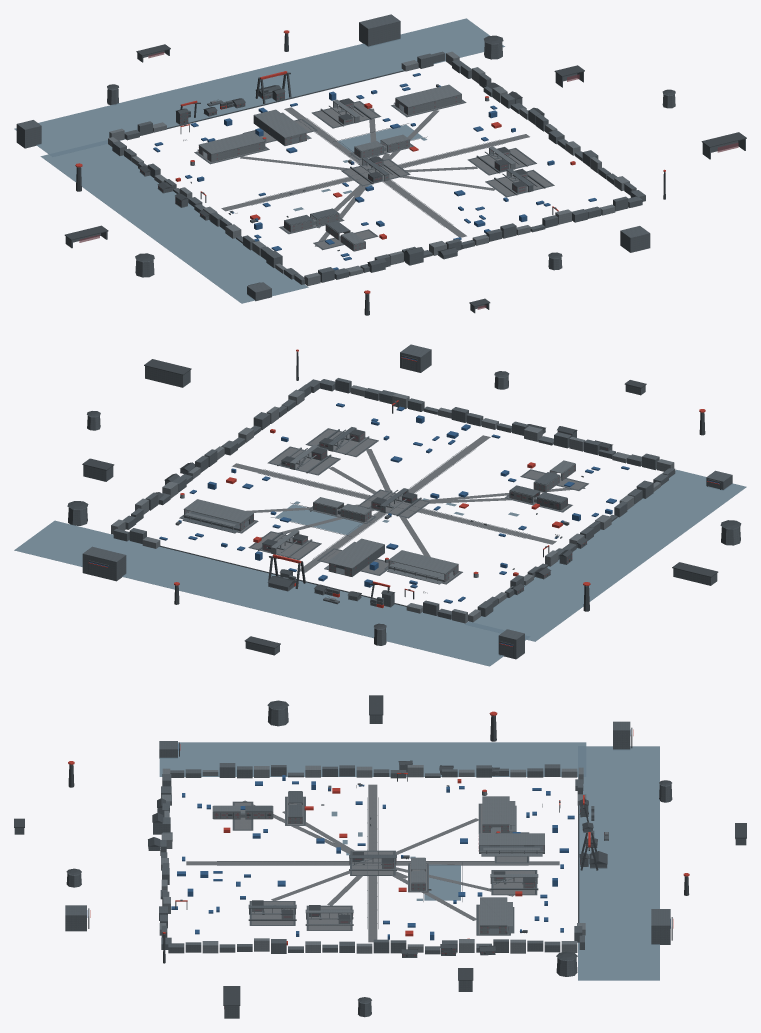
File: kouwan-lod1.glb
The picture shows the model from 3 angles, top to bottom: view 1: azimuth 30°, elevation 25°; view 2: azimuth 150°, elevation 25°; view 3: azimuth 270°, elevation 25°; orthographic projection. The views are drawn at different scales.
Parts seen in each view (by area): view 1: HB_kouwan_LOD1_water, HB_kouwan_LOD1_wall_alt, HB_kouwan_LOD1_wall, HB_kouwan_LOD1_road, HB_kouwan_LOD1_trim, HB_kouwan_LOD1_obstacle, HB_kouwan_LOD1_glass, HB_kouwan_LOD1_accent; view 2: HB_kouwan_LOD1_water, HB_kouwan_LOD1_wall_alt, HB_kouwan_LOD1_wall, HB_kouwan_LOD1_road, HB_kouwan_LOD1_trim, HB_kouwan_LOD1_obstacle, HB_kouwan_LOD1_accent; view 3: HB_kouwan_LOD1_water, HB_kouwan_LOD1_wall_alt, HB_kouwan_LOD1_wall, HB_kouwan_LOD1_road, HB_kouwan_LOD1_trim, HB_kouwan_LOD1_obstacle, HB_kouwan_LOD1_accent.
Part boxes in pixels (x1=…): HB_kouwan_LOD1_water: x1=14, y1=18, x2=504, y2=303; HB_kouwan_LOD1_wall_alt: x1=16, y1=14, x2=745, y2=313; HB_kouwan_LOD1_wall: x1=108, y1=51, x2=629, y2=285; HB_kouwan_LOD1_road: x1=194, y1=100, x2=554, y2=250; HB_kouwan_LOD1_trim: x1=64, y1=33, x2=746, y2=315; HB_kouwan_LOD1_obstacle: x1=153, y1=73, x2=596, y2=270; HB_kouwan_LOD1_glass: x1=79, y1=52, x2=738, y2=309; HB_kouwan_LOD1_accent: x1=75, y1=30, x2=665, y2=293; HB_kouwan_LOD1_water: x1=14, y1=469, x2=746, y2=666; HB_kouwan_LOD1_wall_alt: x1=68, y1=344, x2=740, y2=659; HB_kouwan_LOD1_wall: x1=111, y1=385, x2=674, y2=623; HB_kouwan_LOD1_road: x1=179, y1=429, x2=588, y2=584; HB_kouwan_LOD1_trim: x1=67, y1=351, x2=741, y2=658; HB_kouwan_LOD1_obstacle: x1=89, y1=357, x2=719, y2=646; HB_kouwan_LOD1_accent: x1=88, y1=349, x2=719, y2=646; HB_kouwan_LOD1_water: x1=159, y1=742, x2=659, y2=980; HB_kouwan_LOD1_wall_alt: x1=14, y1=707, x2=746, y2=1018; HB_kouwan_LOD1_wall: x1=159, y1=765, x2=608, y2=953; HB_kouwan_LOD1_road: x1=186, y1=784, x2=559, y2=942; HB_kouwan_LOD1_trim: x1=14, y1=695, x2=746, y2=1005; HB_kouwan_LOD1_obstacle: x1=87, y1=729, x2=670, y2=940; HB_kouwan_LOD1_accent: x1=68, y1=711, x2=689, y2=953.
Size of the model in its own units: 652 by 29.59 by 643.
8 materials, 6 textured.
